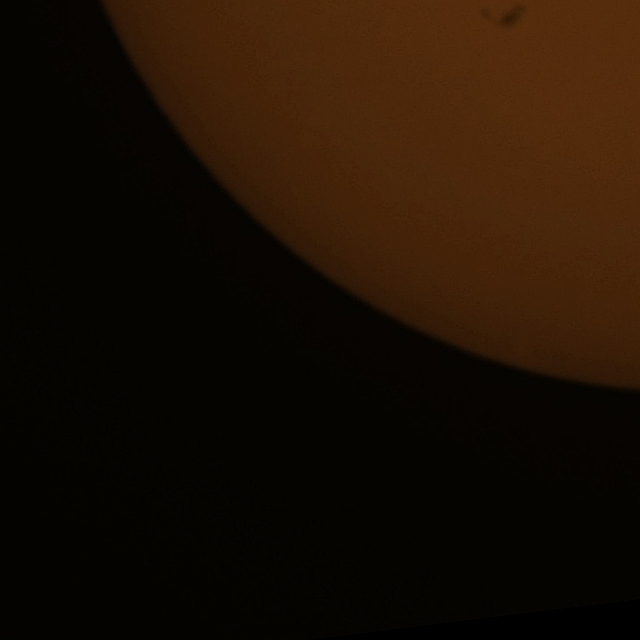sunspot: (463, 0, 540, 47)
